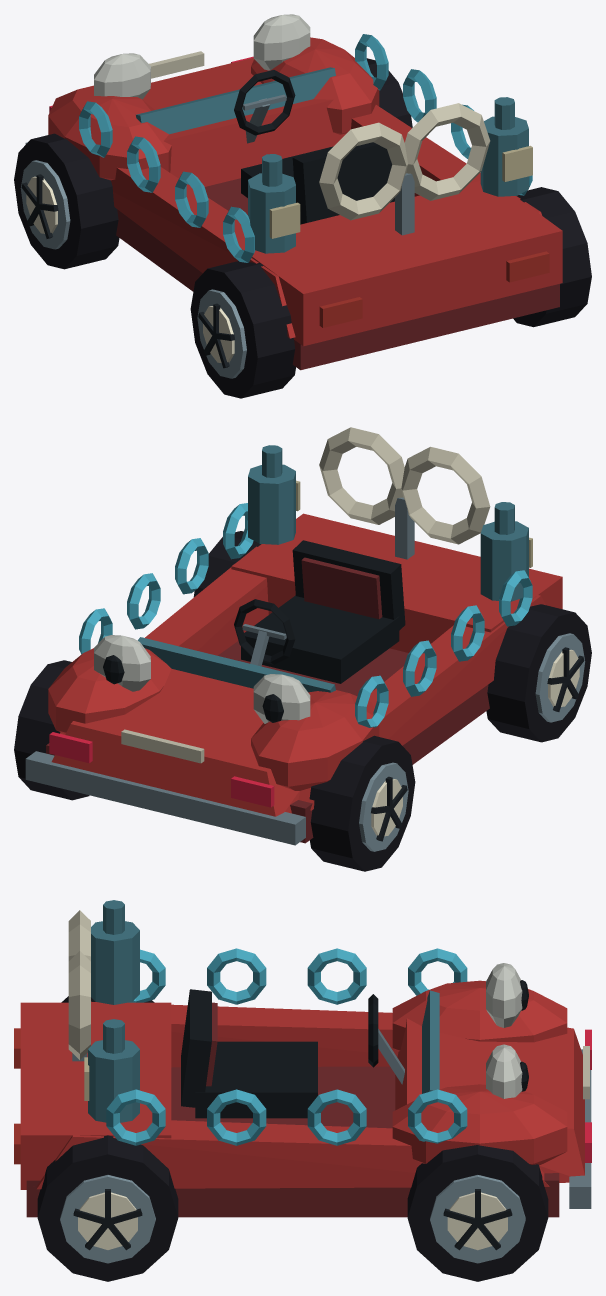
Rendered from kart.glb.
3 views of the same model, one above another, from view 1: azimuth 30°, elevation 25°; view 2: azimuth 150°, elevation 25°; view 3: azimuth 270°, elevation 25° (orthographic). The views are drawn at different scales.
Visible parts, largest first — view 1: identity-toy-car-toy-rounded-body-and-wind-up-key, wheel-rear-left, wheel-front-left, identity-toy-car-motif-bottles, identity-toy-car-motif-water, identity-toy-car-driver-cockpit, identity-toy-car-motif-eyes, wheel-rear-right, wheel-front-right; view 2: identity-toy-car-toy-rounded-body-and-wind-up-key, identity-toy-car-driver-cockpit, wheel-rear-left, wheel-front-left, identity-toy-car-motif-water, identity-toy-car-motif-bottles, identity-toy-car-motif-eyes, wheel-front-right, wheel-rear-right; view 3: identity-toy-car-toy-rounded-body-and-wind-up-key, wheel-rear-right, wheel-front-right, identity-toy-car-motif-water, identity-toy-car-driver-cockpit, identity-toy-car-motif-bottles, identity-toy-car-motif-eyes.
Boxes of the visible parts, x1=… form: identity-toy-car-toy-rounded-body-and-wind-up-key: x1=25, y1=37, x2=562, y2=370; wheel-rear-left: x1=190, y1=261, x2=295, y2=398; wheel-front-left: x1=14, y1=133, x2=119, y2=269; identity-toy-car-motif-bottles: x1=248, y1=97, x2=532, y2=253; identity-toy-car-motif-water: x1=79, y1=34, x2=532, y2=262; identity-toy-car-driver-cockpit: x1=234, y1=70, x2=394, y2=224; identity-toy-car-motif-eyes: x1=94, y1=14, x2=310, y2=99; wheel-rear-right: x1=513, y1=187, x2=591, y2=327; wheel-front-right: x1=366, y1=58, x2=412, y2=127; identity-toy-car-toy-rounded-body-and-wind-up-key: x1=25, y1=427, x2=562, y2=845; identity-toy-car-driver-cockpit: x1=234, y1=540, x2=405, y2=683; wheel-rear-left: x1=486, y1=604, x2=591, y2=742; wheel-front-left: x1=309, y1=735, x2=415, y2=871; identity-toy-car-motif-water: x1=79, y1=503, x2=532, y2=727; identity-toy-car-motif-bottles: x1=248, y1=445, x2=532, y2=601; identity-toy-car-motif-eyes: x1=94, y1=635, x2=310, y2=723; wheel-front-right: x1=14, y1=660, x2=89, y2=800; wheel-rear-right: x1=193, y1=531, x2=261, y2=597; identity-toy-car-toy-rounded-body-and-wind-up-key: x1=14, y1=910, x2=591, y2=1217; wheel-rear-right: x1=37, y1=1135, x2=178, y2=1281; wheel-front-right: x1=407, y1=1145, x2=548, y2=1281; identity-toy-car-motif-water: x1=106, y1=948, x2=467, y2=1145; identity-toy-car-driver-cockpit: x1=181, y1=989, x2=404, y2=1118; identity-toy-car-motif-bottles: x1=84, y1=900, x2=139, y2=1122; identity-toy-car-motif-eyes: x1=486, y1=963, x2=528, y2=1098.
Bounding box in the file's own units: 2.13 × 1.42 × 2.88.
